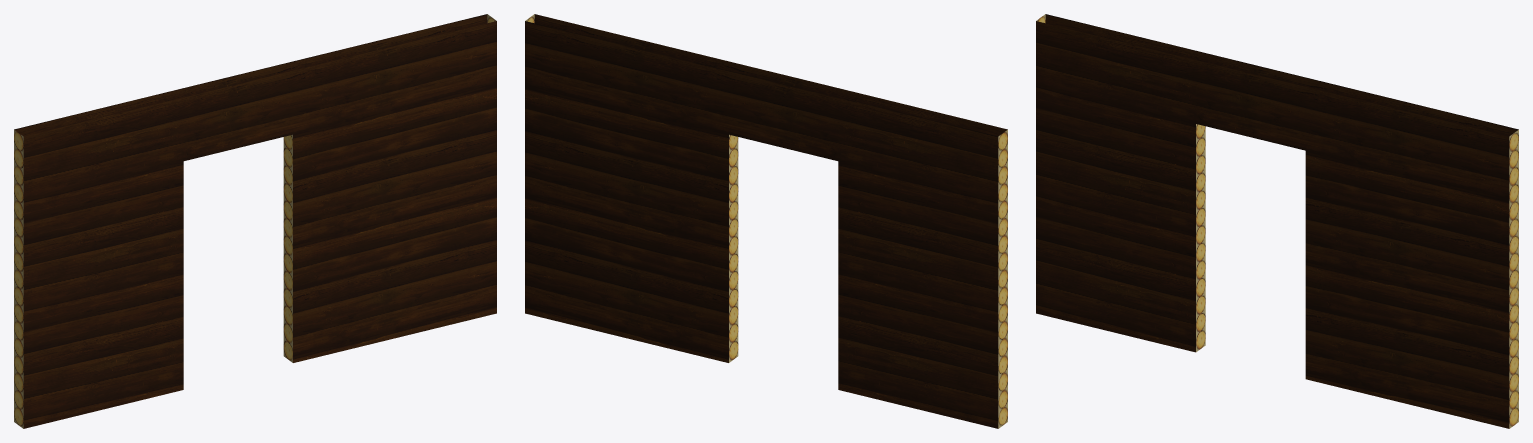
The model's file is Inner wall 6.fbx.
3 views of the same model, side by side, from view 1: azimuth 30°, elevation 25°; view 2: azimuth 150°, elevation 25°; view 3: azimuth 330°, elevation 25° (orthographic).
Visible parts, largest first — view 1: Inner8; view 2: Inner8; view 3: Inner8.
Boxes of the visible parts, left/top/right/bottom form: Inner8: left=14, top=14, right=496, bottom=428; Inner8: left=525, top=14, right=1007, bottom=428; Inner8: left=1036, top=14, right=1518, bottom=428.
Bounding box in the file's own units: 4.86 × 2.87 × 0.1702.
